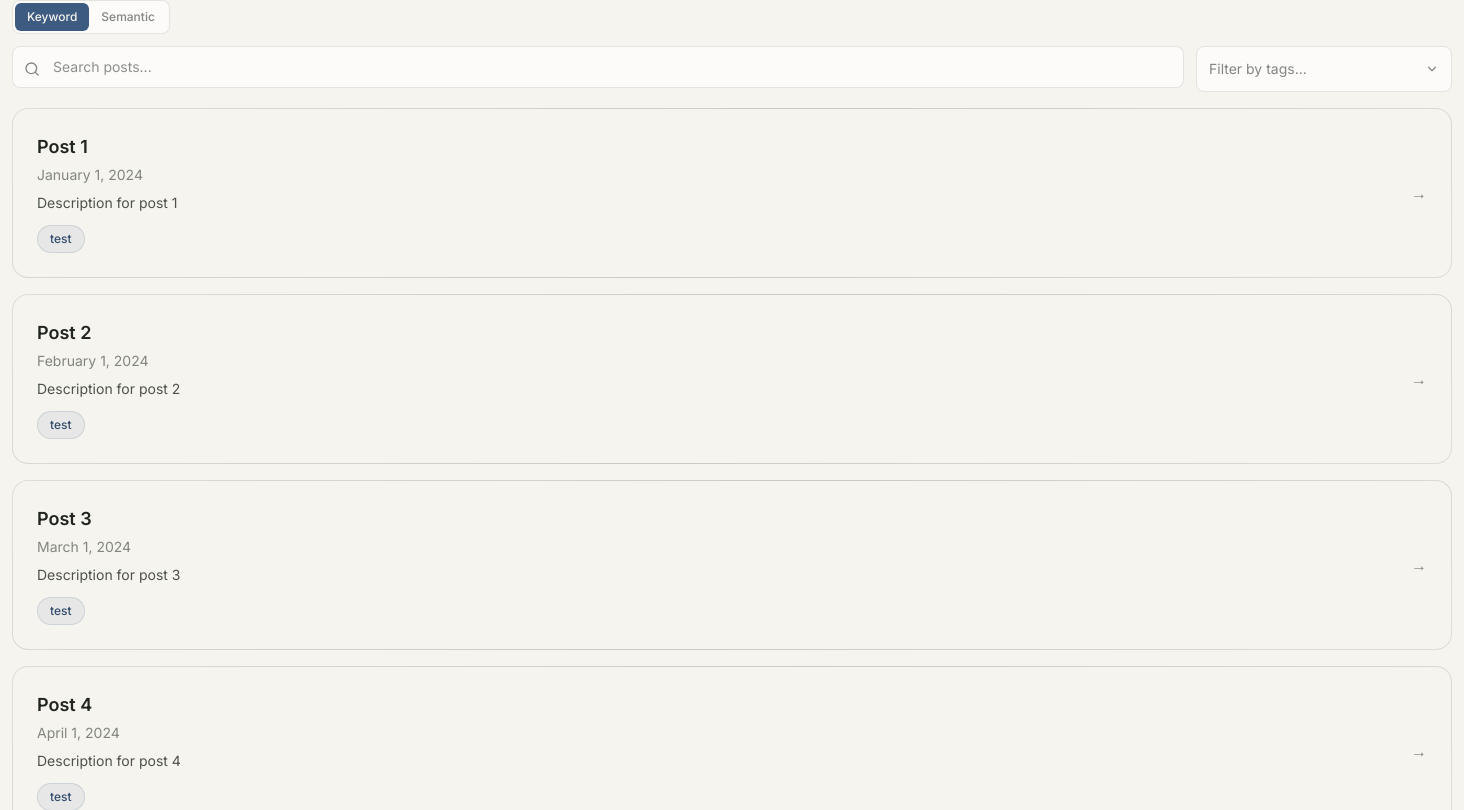
it: BlogSearch semantic result limit › reveals more results when 'Show more' is clicked
This screenshot has width=1464, height=810.
Click the radio button labelled "Semantic" at (128, 17), box [89,3,167,31]
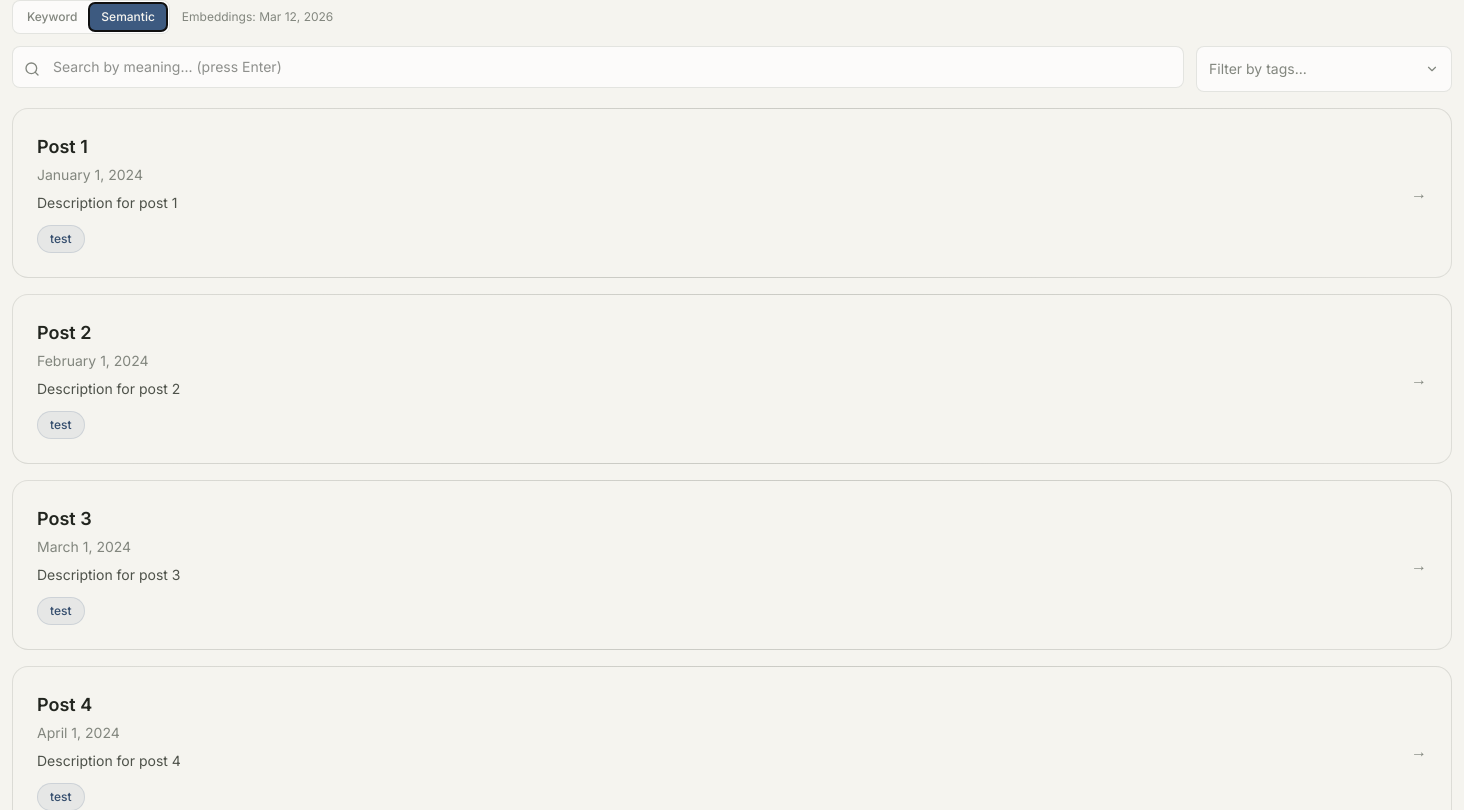
Type "test" into the field with placeholder "Search by meaning... (press Enter)" at (598, 67), box [12,46,1184,88]
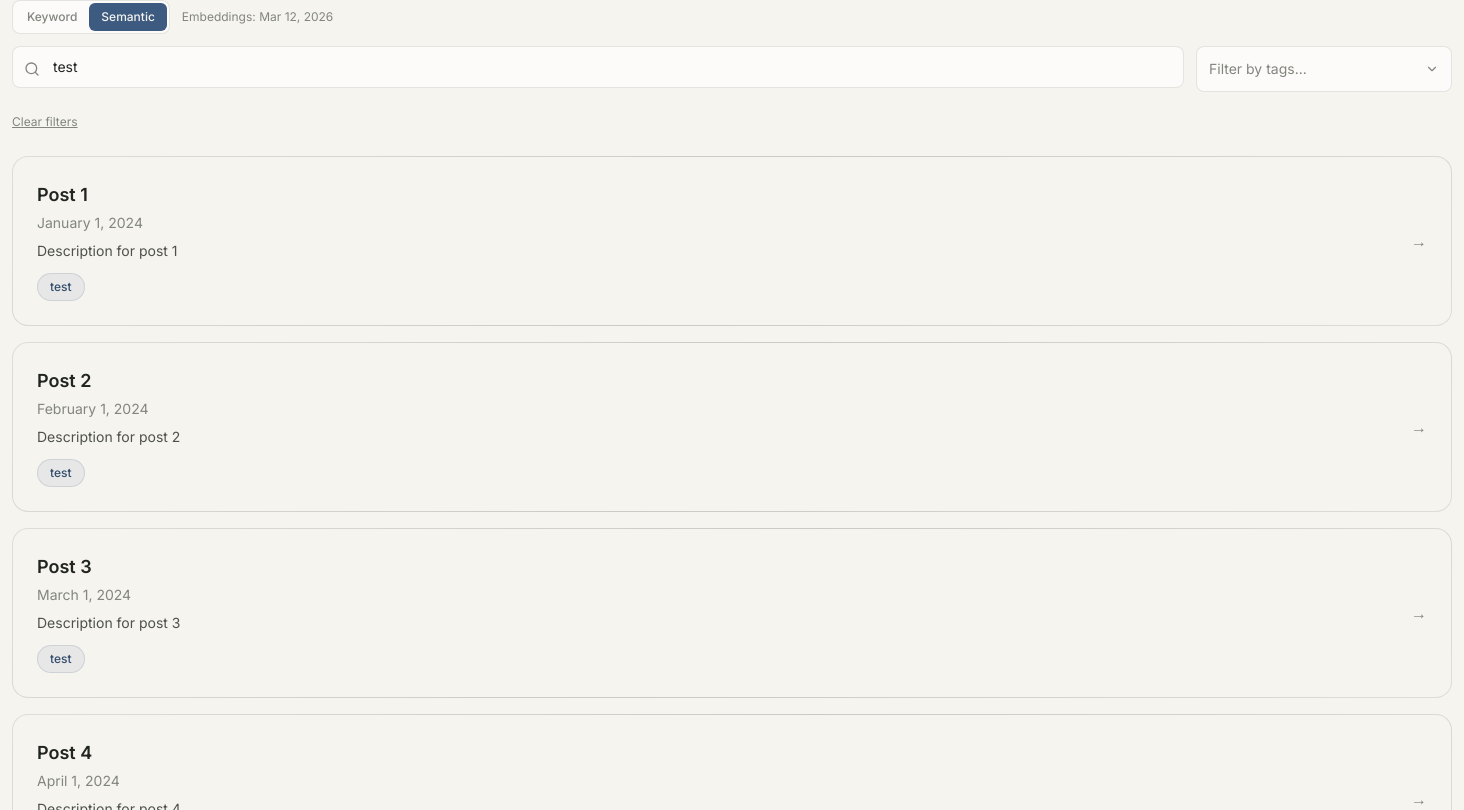
Press Enter
(page scrolled)
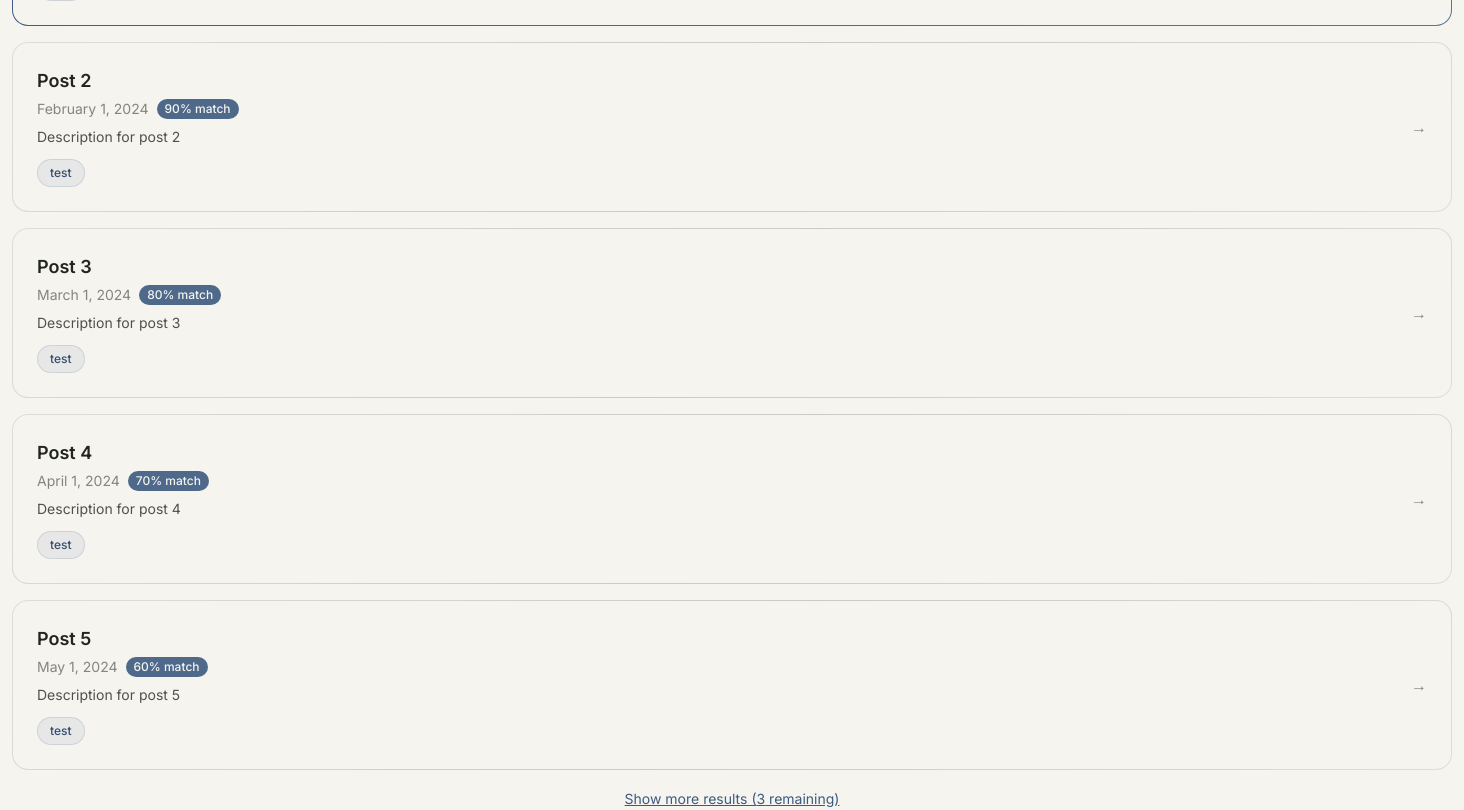
Click the button "Show more results (3 remaining)" at (732, 799), box [625,789,840,809]
(page scrolled)
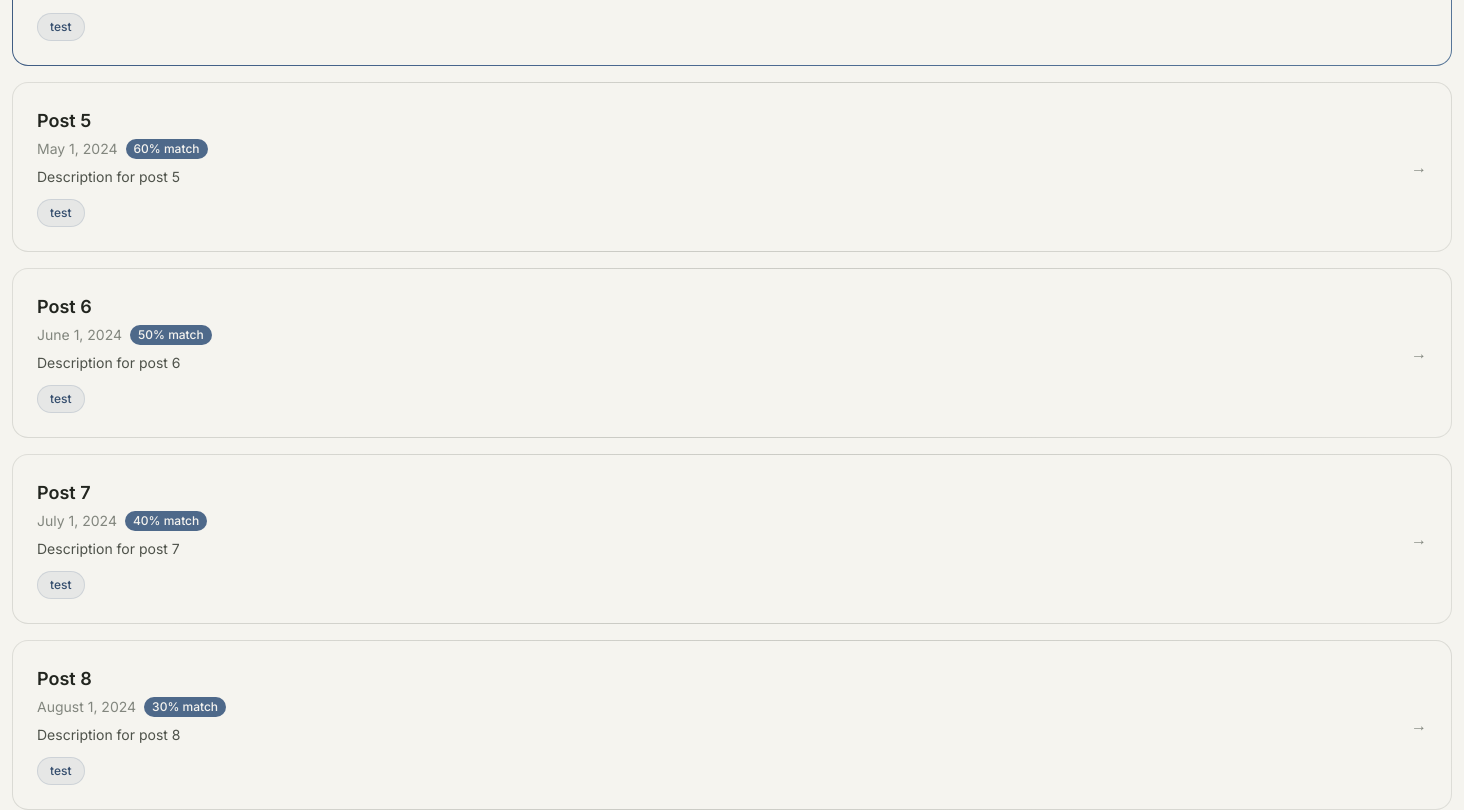
Result: the button "Show more results" is gone
